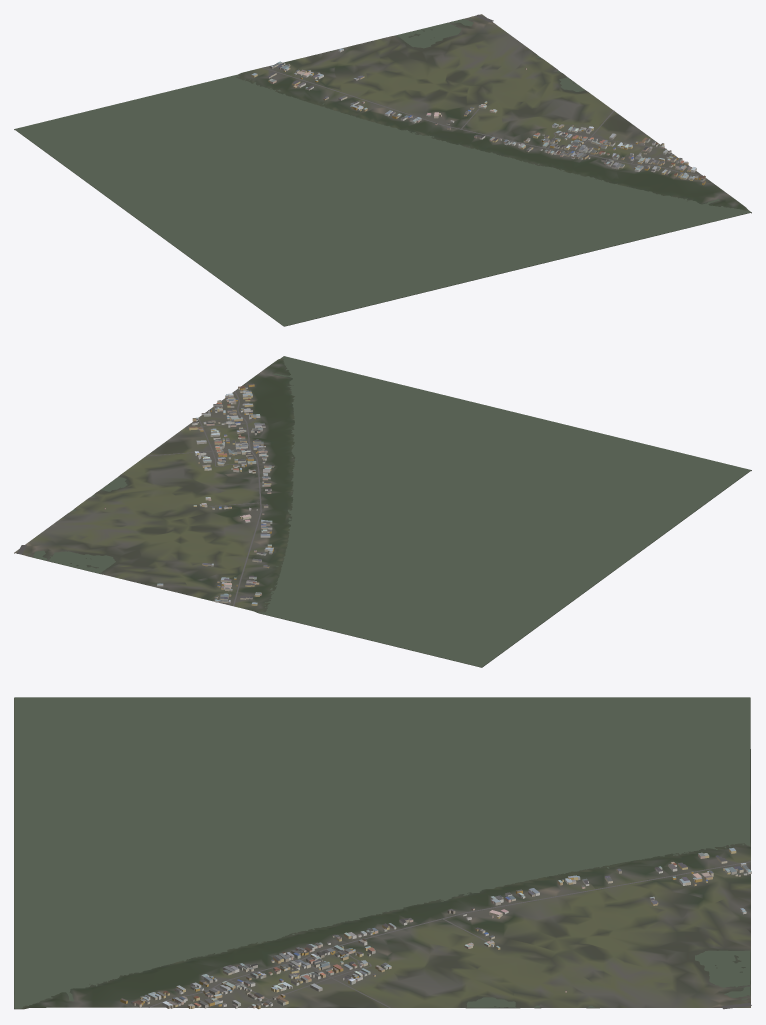
3 renders of one model, top to bottom at view 1: azimuth 30°, elevation 25°; view 2: azimuth 150°, elevation 25°; view 3: azimuth 270°, elevation 25°, orthographic. The views are drawn at different scales.
Parts seen in each view (by area): view 1: water, ground, buildings, roads; view 2: water, ground, buildings, roads; view 3: water, ground, buildings, roads.
Boxes of the visible parts, x1,y1,x2,y2 form: water: (15, 18, 750, 326); ground: (14, 14, 751, 326); buildings: (251, 48, 705, 185); roads: (262, 14, 702, 175); water: (28, 356, 750, 667); ground: (14, 356, 751, 667); buildings: (104, 384, 274, 605); roads: (17, 391, 261, 606); water: (14, 697, 750, 1008); ground: (14, 697, 750, 1009); buildings: (120, 848, 751, 1009); roads: (148, 861, 751, 1009).
Bounding box in the file's own units: 1408 × 13.54 × 1403.
